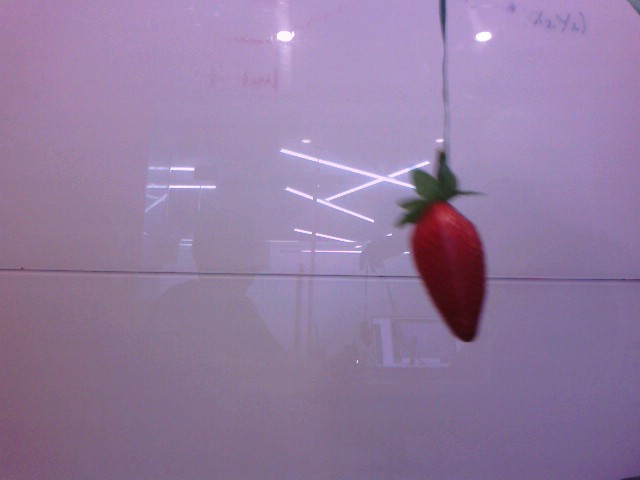strawberry: (401, 182, 491, 345)
